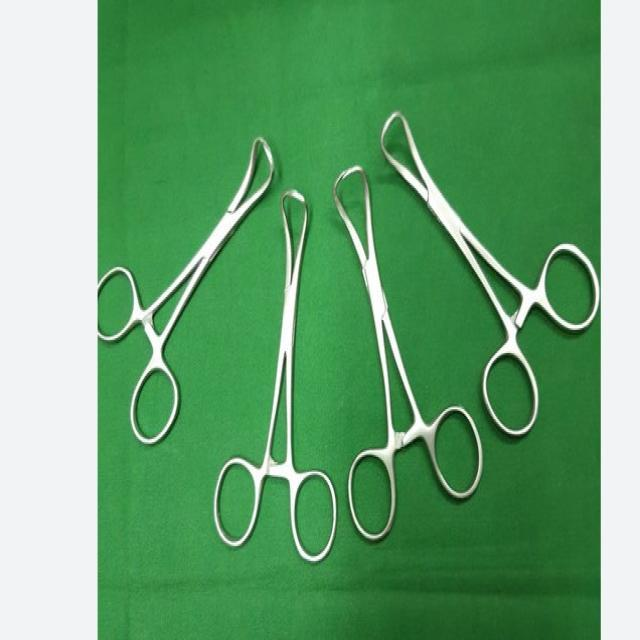Backhaus Towel Clamp: (378, 109, 600, 442), (331, 162, 483, 547), (100, 121, 274, 448), (210, 184, 343, 570)
